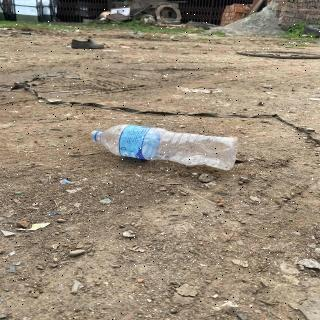Plastic-bottle: (88, 121, 242, 175)
